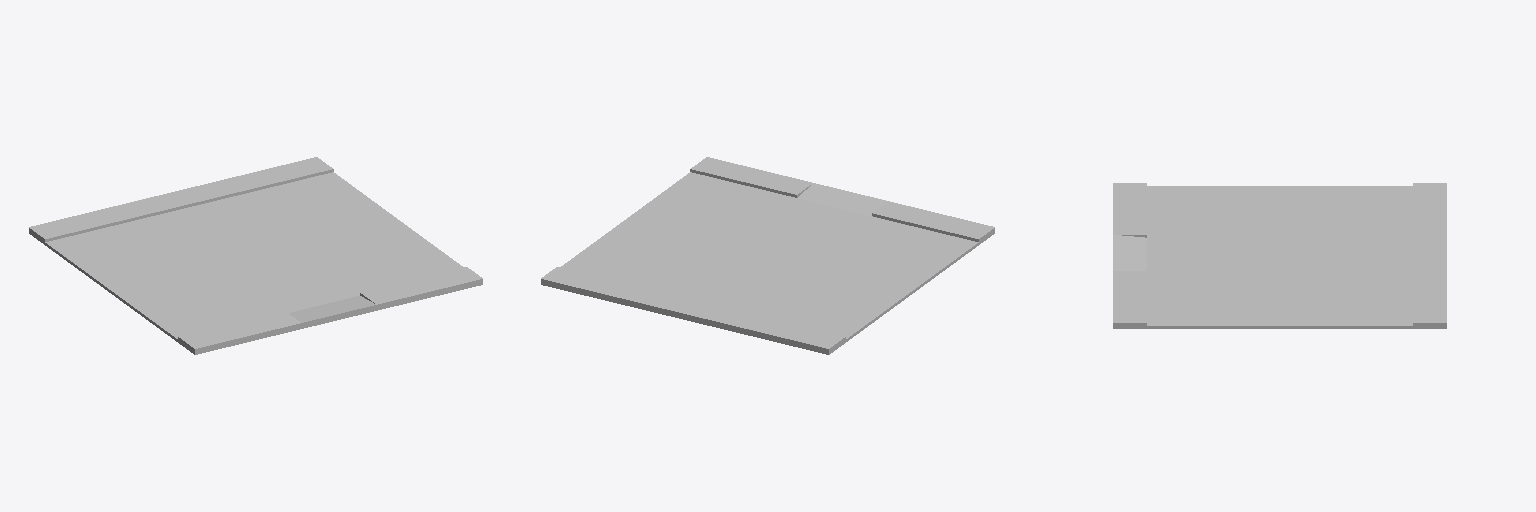
The model's file is road_drivewaySingle.obj.
3 views of the same model, side by side, from view 1: azimuth 30°, elevation 25°; view 2: azimuth 150°, elevation 25°; view 3: azimuth 270°, elevation 25° (orthographic).
Parts seen in each view (by area): view 1: road_drivewaySingle; view 2: road_drivewaySingle; view 3: road_drivewaySingle.
Part boxes in pixels (x1,y1,x2,y2): road_drivewaySingle: (29,157,482,354); road_drivewaySingle: (541,157,994,354); road_drivewaySingle: (1113,183,1446,328).
Bounding box in the file's own units: 1 × 0.02 × 1.